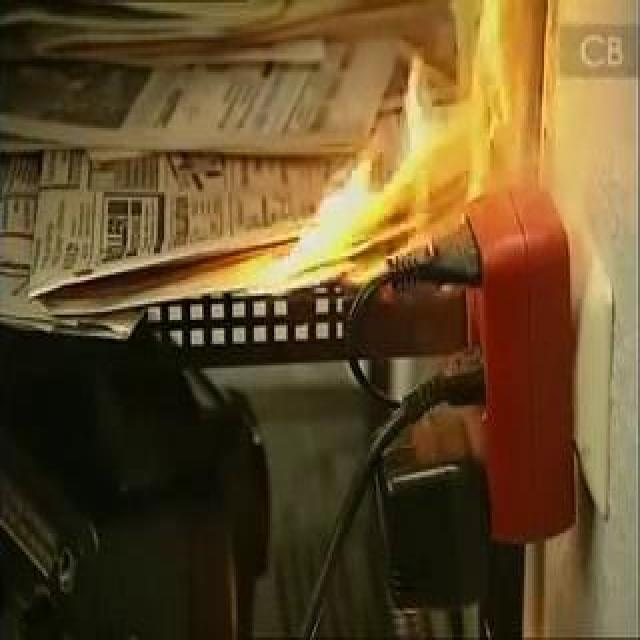Fire: (230, 2, 548, 314)
